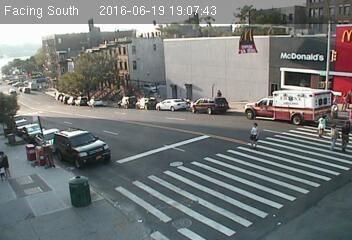neg: (68, 130, 86, 155), (40, 156, 57, 180), (93, 136, 110, 159), (49, 88, 63, 106), (86, 148, 99, 165), (39, 137, 51, 153), (66, 93, 77, 107), (55, 127, 64, 139), (80, 98, 88, 108), (63, 93, 68, 100)
pos: (242, 119, 265, 149), (311, 112, 332, 139), (215, 85, 226, 99)
